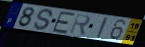6: (109, 19, 127, 41)
8: (17, 7, 35, 28)
E: (51, 11, 77, 35)
I: (95, 16, 109, 39)
R: (68, 13, 92, 37)
S: (33, 8, 55, 32)
